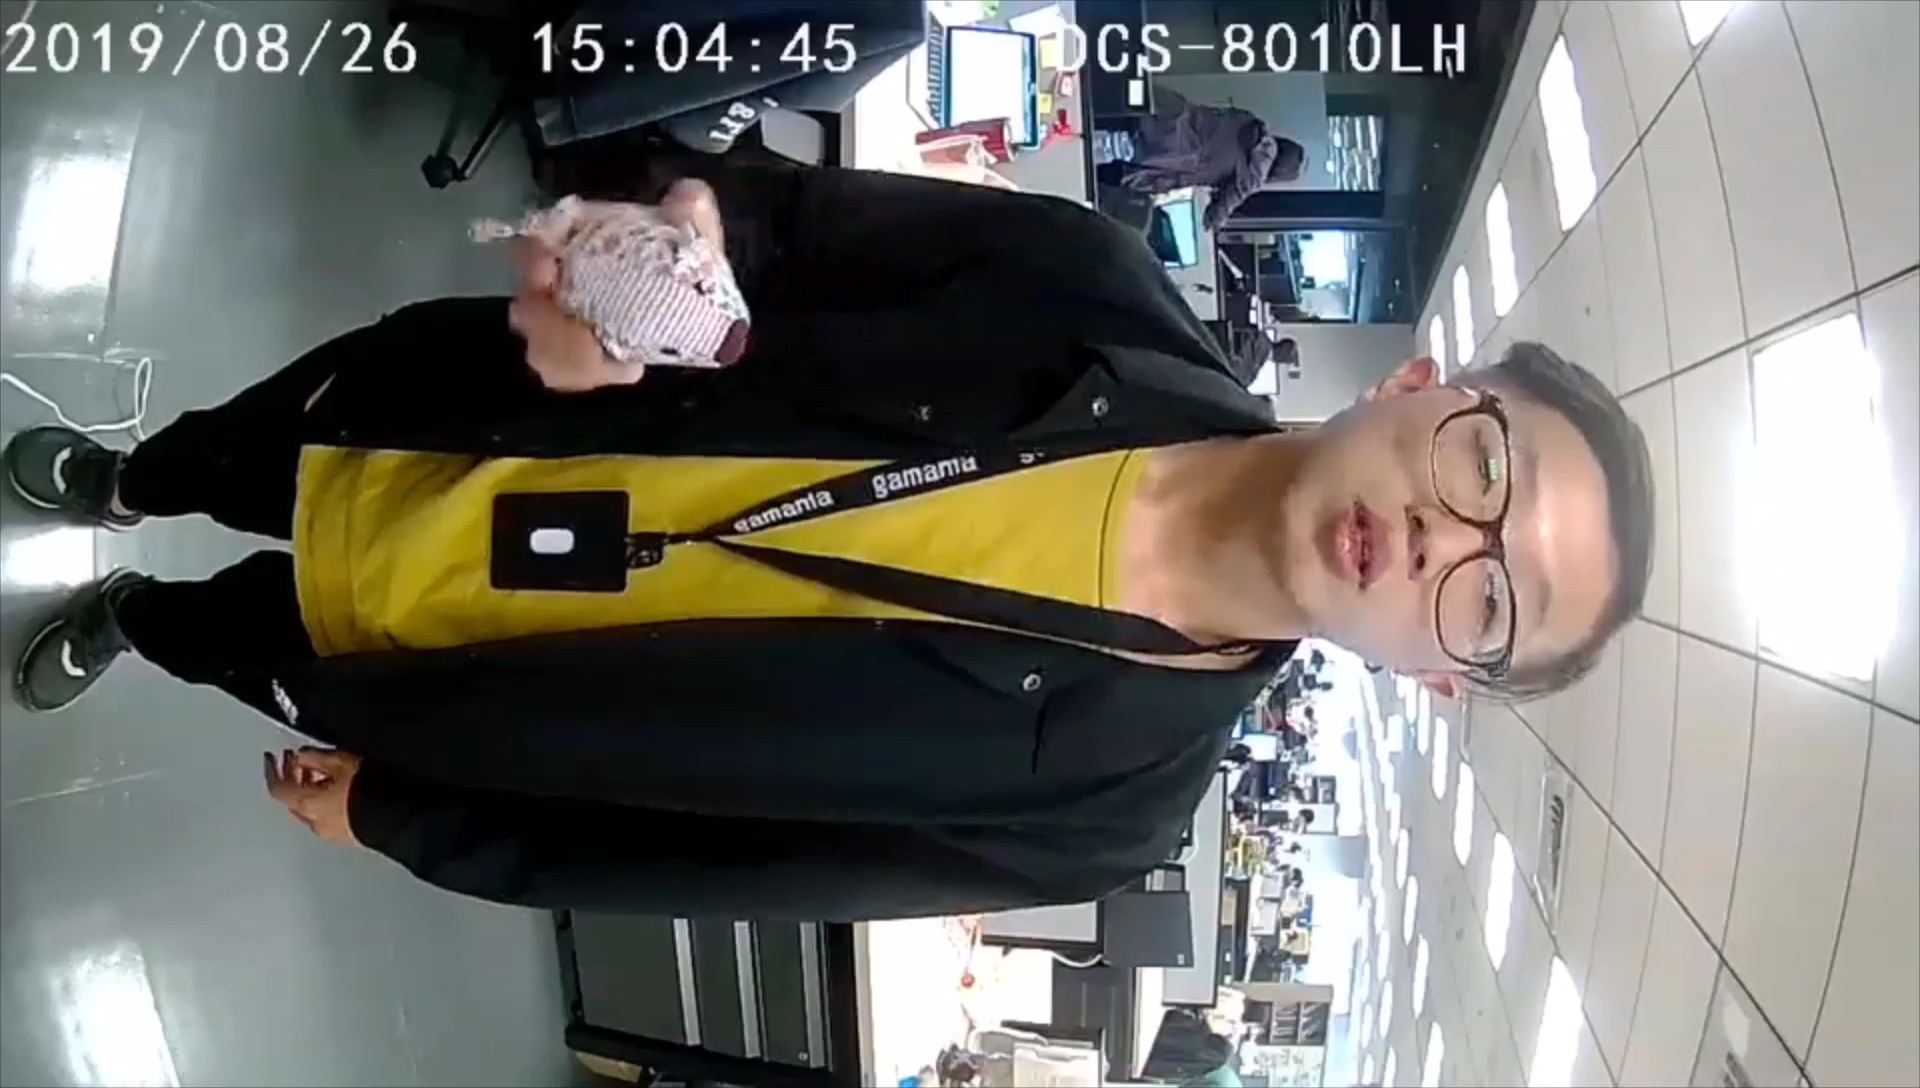pig: (463, 185, 750, 377)
